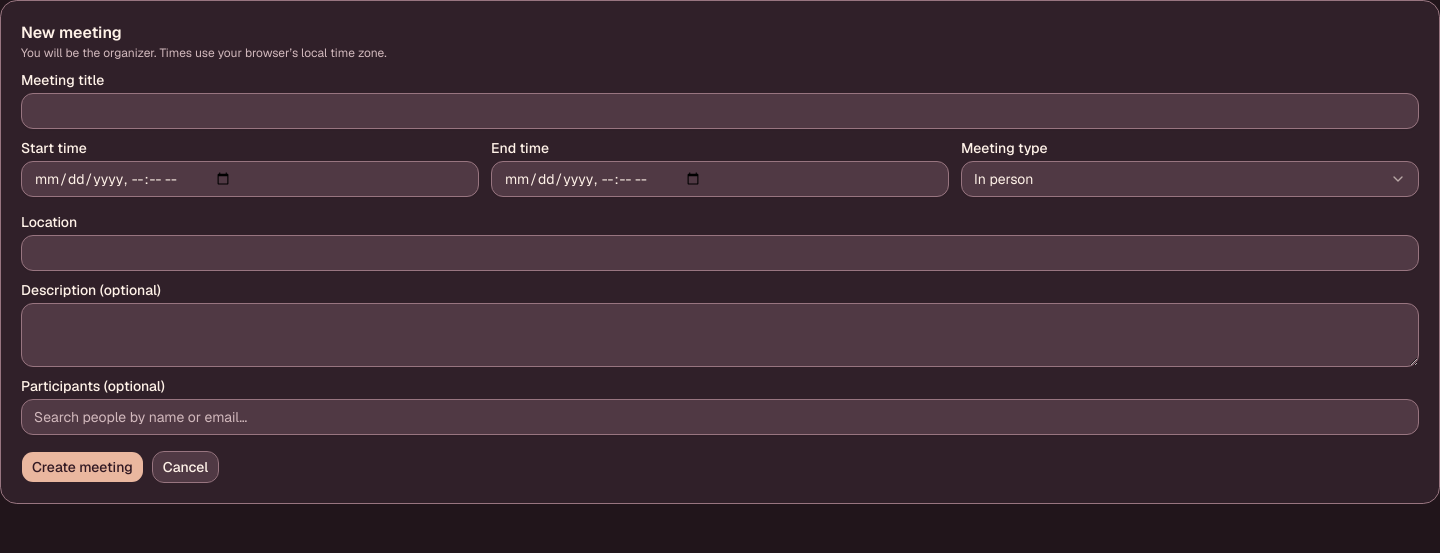
Test case: CreateMeetingForm › requires a location for physical and hybrid meetings
Type "Weekly planning" into the field labelled "Meeting title".
click(720, 111); type("Weekly planning")  # box x1=21 y1=93 x2=1419 y2=129
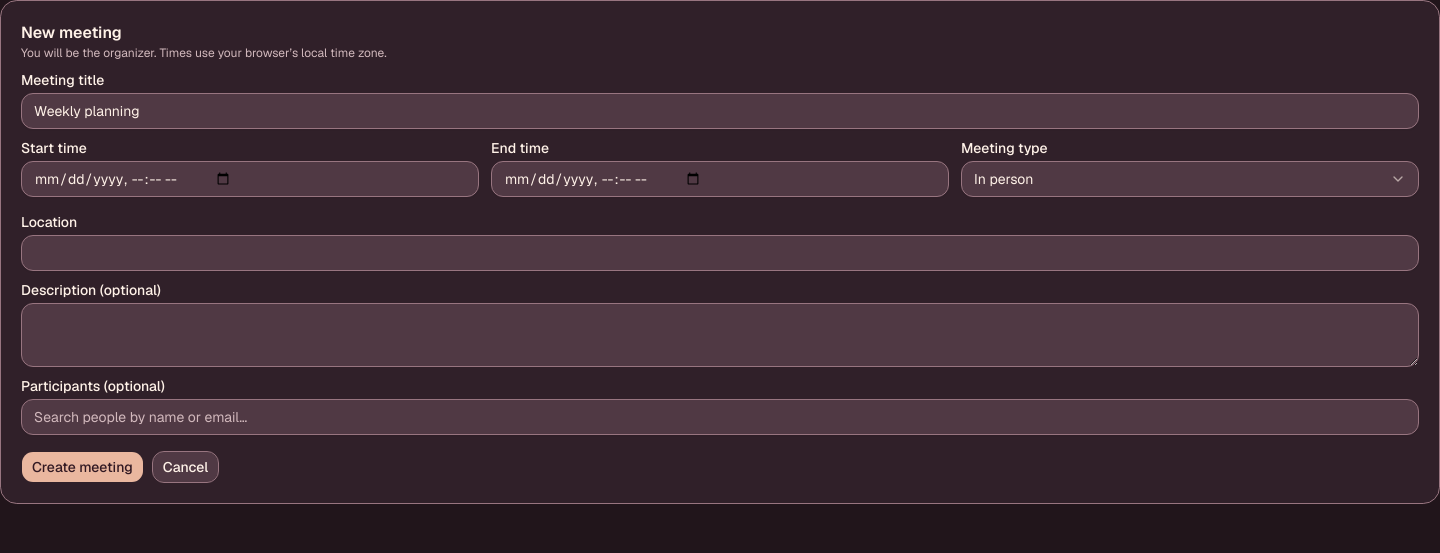
Type "2026-10-20T09:00" into the field labelled "Start time".
click(250, 179); type("2026-10-20T09:00")  # box x1=21 y1=161 x2=479 y2=197
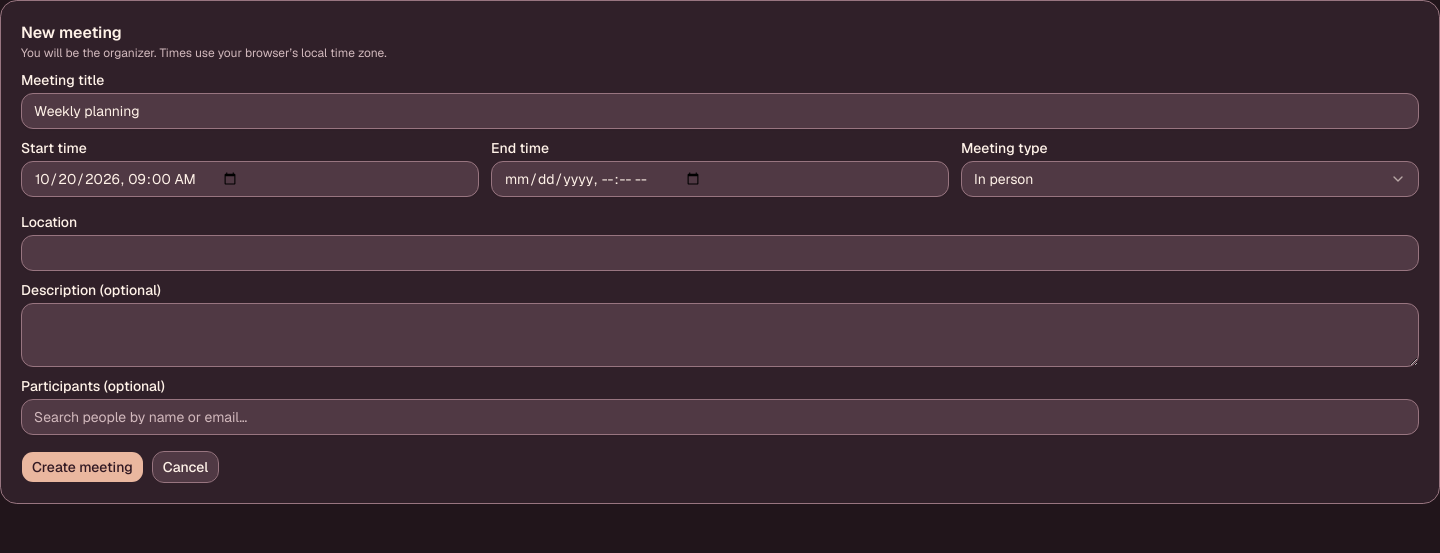
Type "2026-10-20T10:00" into the field labelled "End time".
click(720, 179); type("2026-10-20T10:00")  # box x1=491 y1=161 x2=949 y2=197
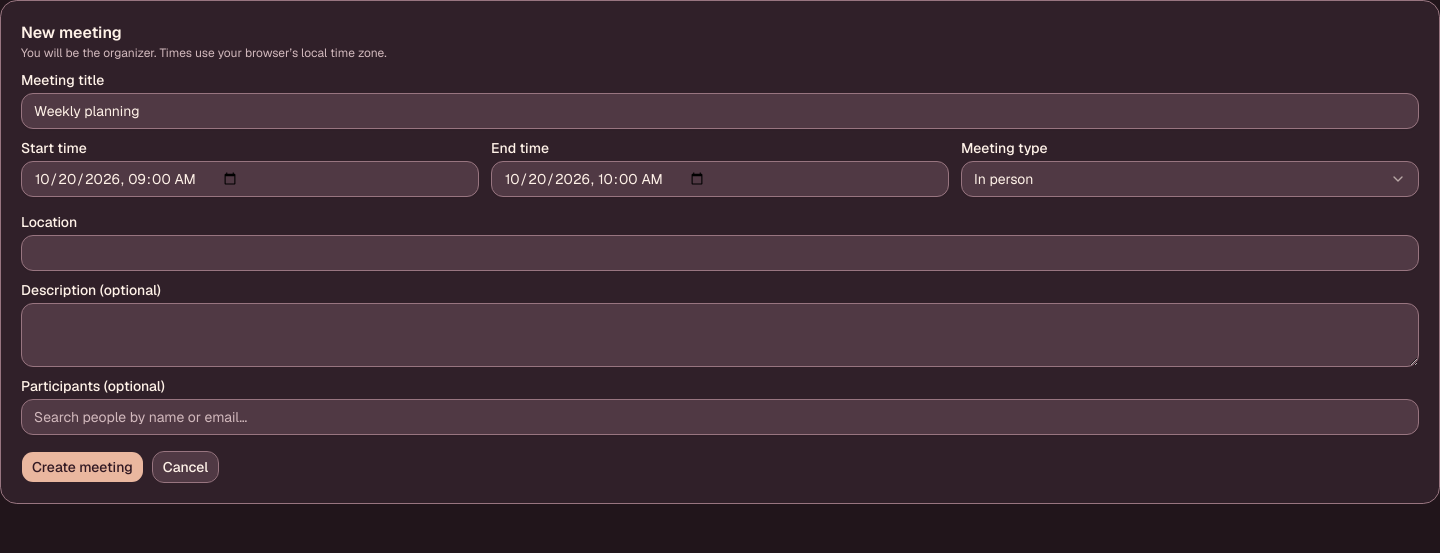
Type "Studio A" into the field labelled "Location".
click(720, 253); type("Studio A")  # box x1=21 y1=235 x2=1419 y2=271
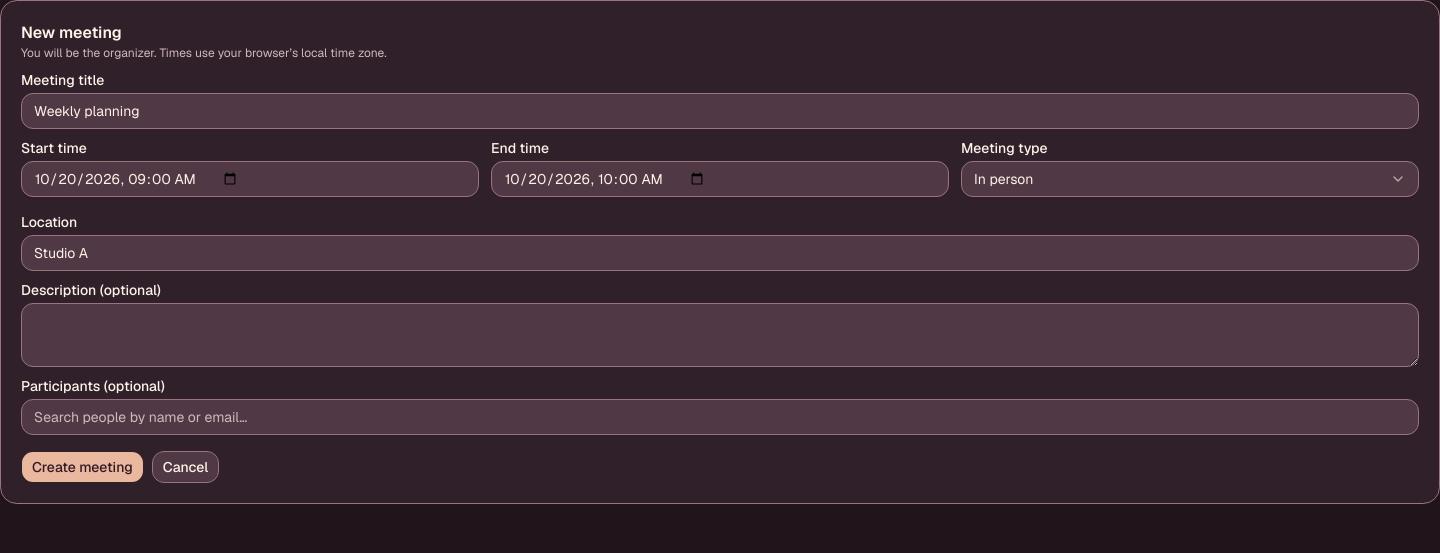
Clear the field labelled "Location" at (720, 253), box x1=21 y1=235 x2=1419 y2=271
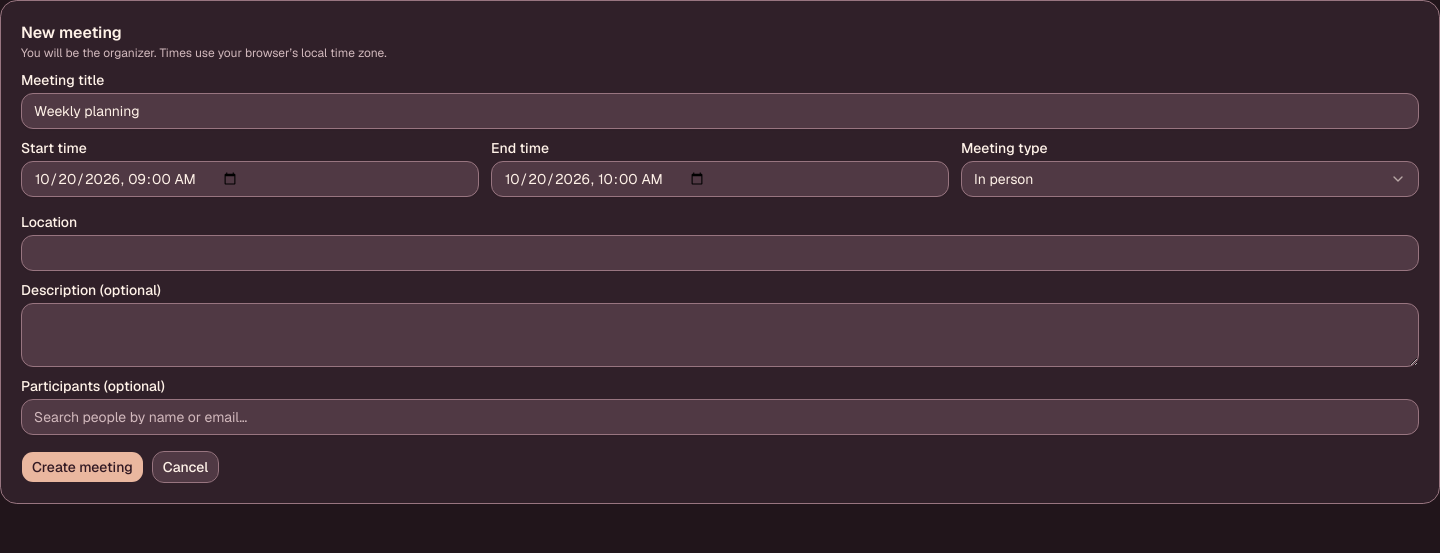
Submit the form named "Create meeting"
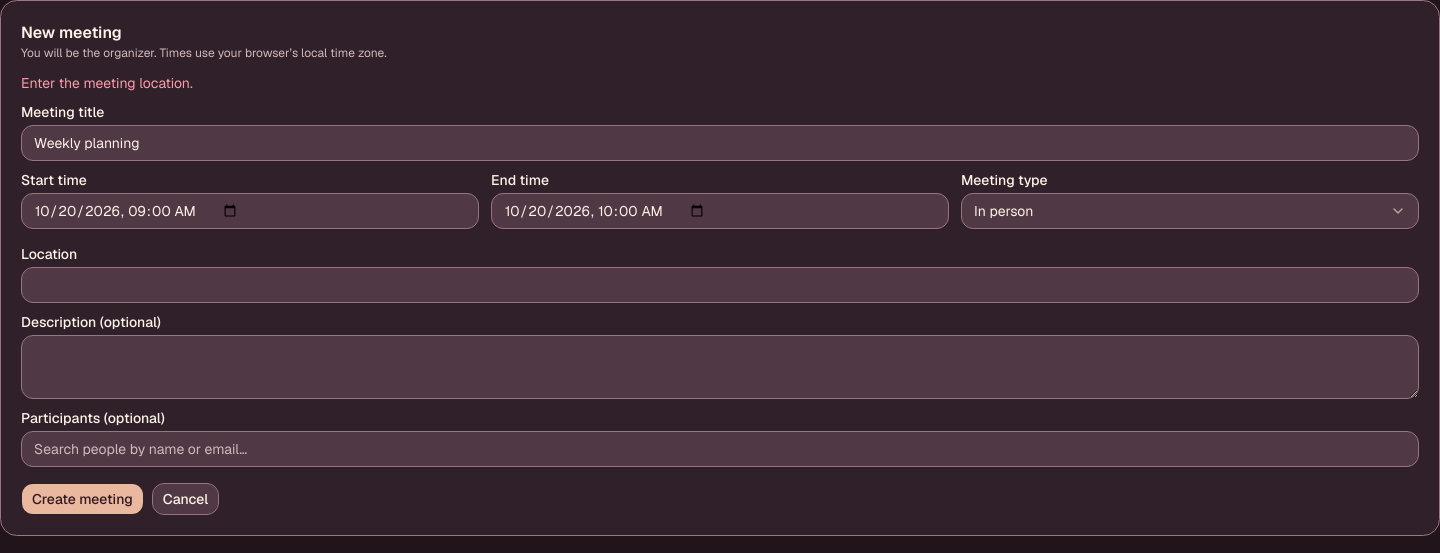
Now the message shows "location", box x1=21 y1=74 x2=193 y2=92
